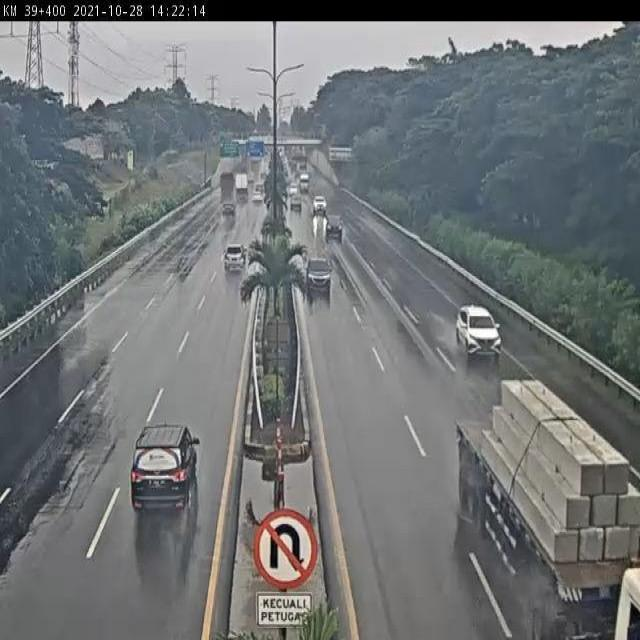car: (129, 423, 198, 513), (454, 298, 504, 358), (305, 254, 333, 294), (223, 241, 248, 276)
truck-xl-: (456, 370, 640, 640)
